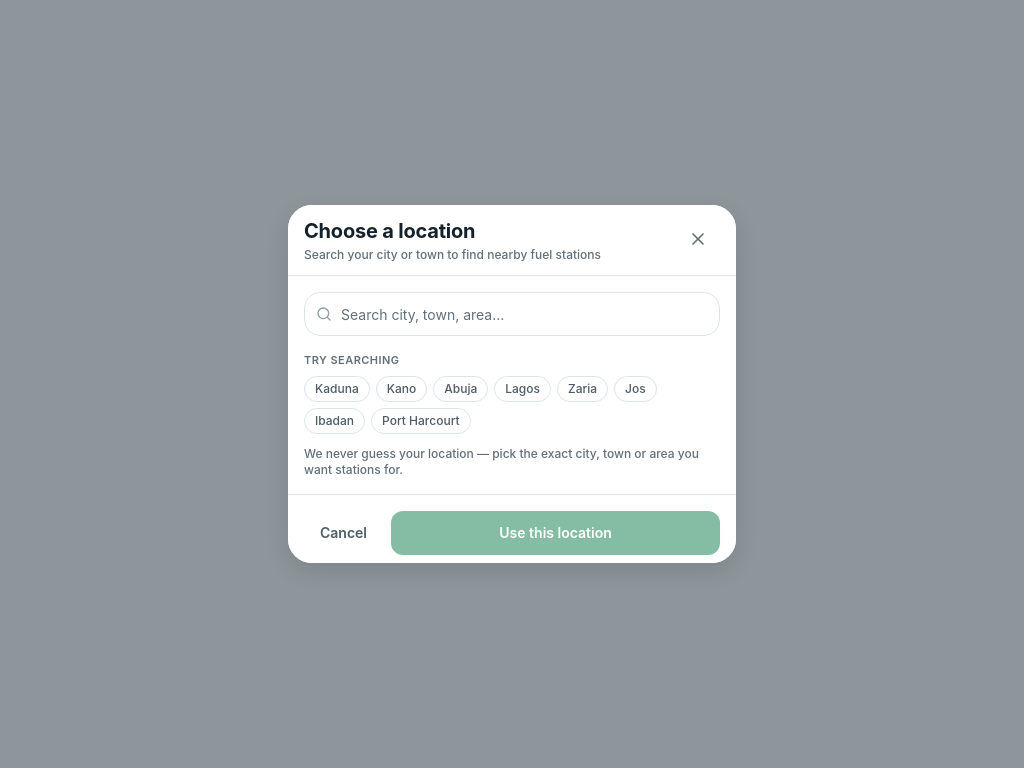
search › shows a friendly message when the search fails
This screenshot has width=1024, height=768.
Step 1. Type "Kaduna" into the search field named "search for a city, town or area" → (512, 314), box 304,292 -> 720,336
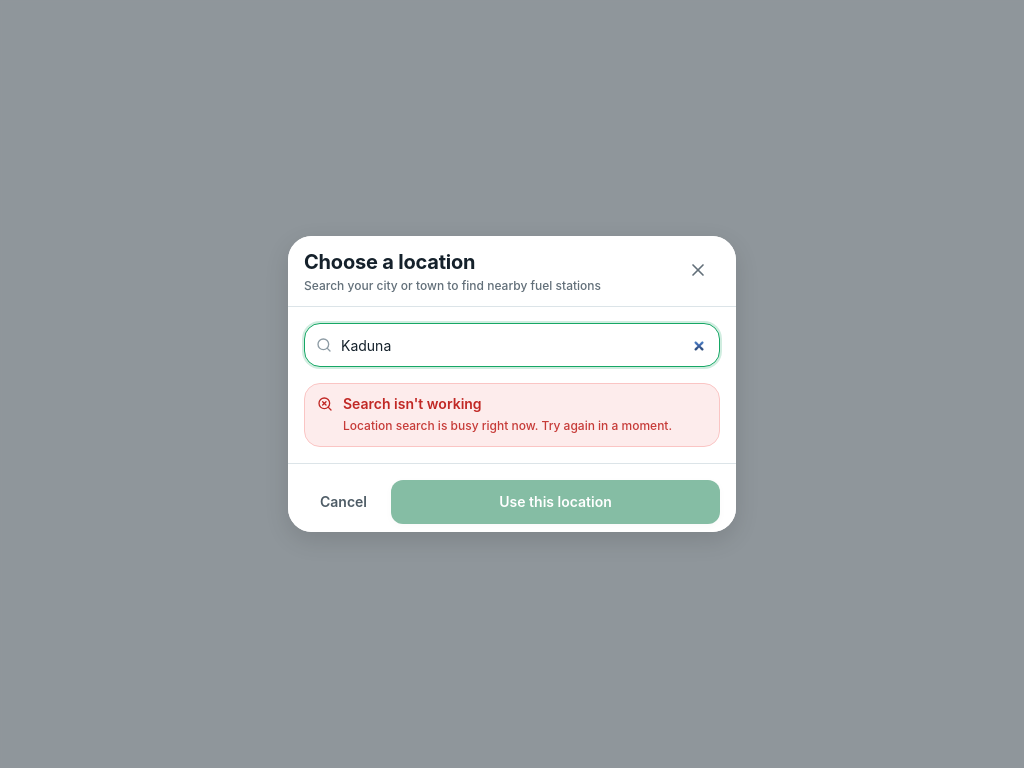
Result: the text "Search isn't working" is shown at 343,395 -> 482,412
Result: the text "Location search is busy right now. Try again in a moment." is shown at 343,416 -> 707,436
